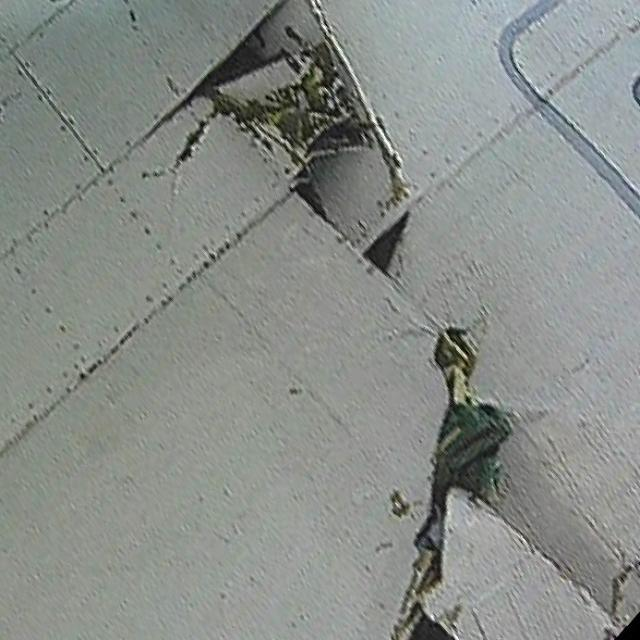crack: (141, 100, 224, 209)
